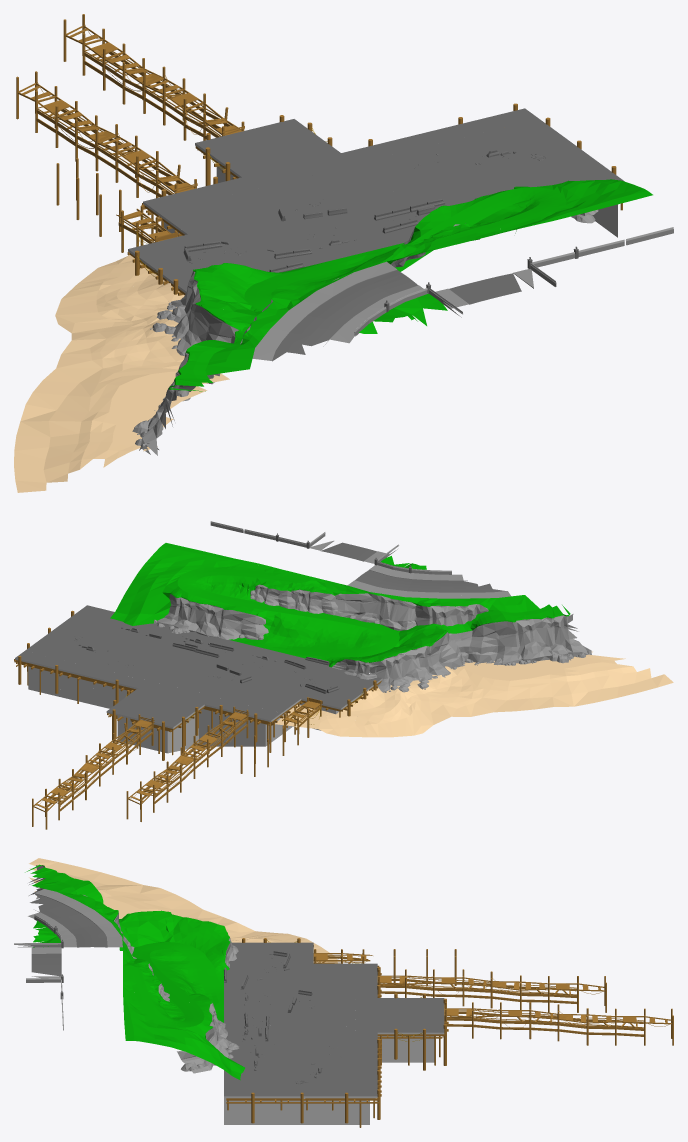
The model's file is bronx_w_1.FBX.
The picture shows the model from 3 angles, top to bottom: view 1: azimuth 30°, elevation 25°; view 2: azimuth 150°, elevation 25°; view 3: azimuth 270°, elevation 25°; orthographic projection. The views are drawn at different scales.
Visible parts, largest first — view 1: unnamed, null; view 2: unnamed, null; view 3: unnamed, null.
Boxes of the visible parts, x1,y1,x2,y2 form: unnamed: (14,14,572,492); null: (338,117,673,264); unnamed: (14,532,673,829); null: (16,521,306,689); unnamed: (14,858,673,1127); null: (60,979,378,1124).
Bounding box in the file's own units: 241 × 42.39 × 259.
